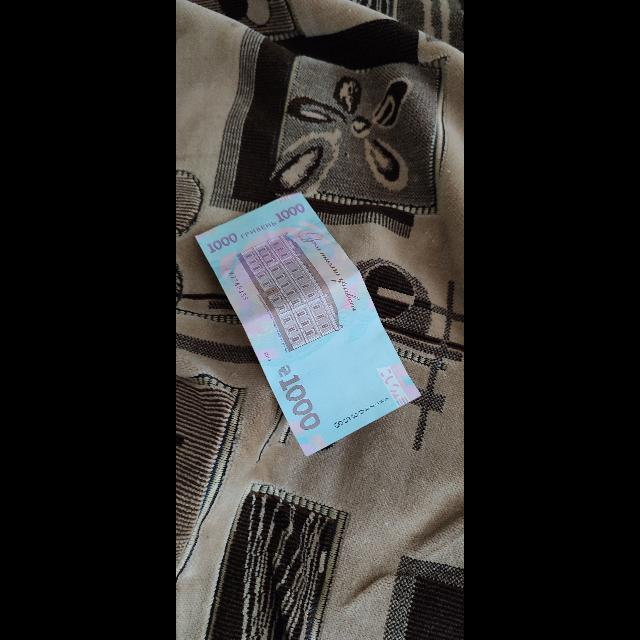1000uah: (197, 193, 418, 458)
